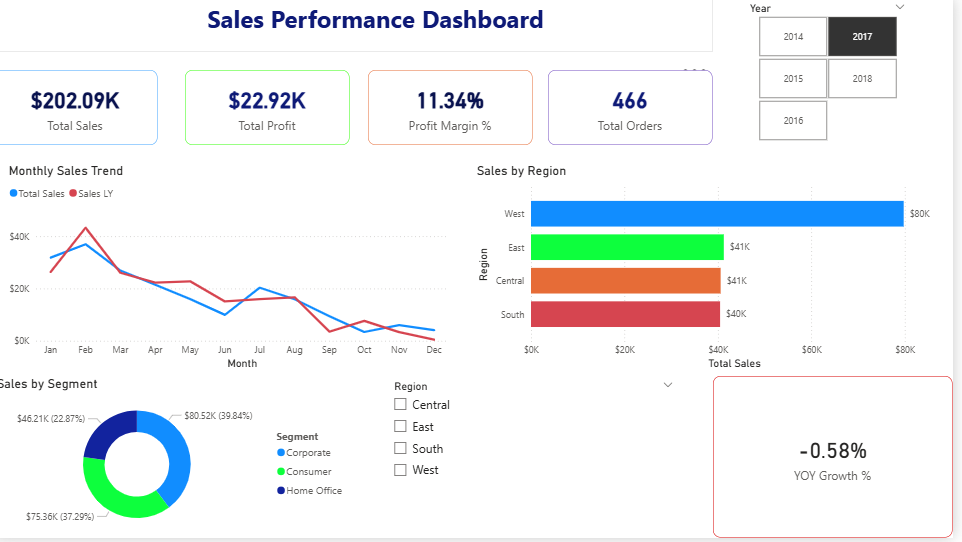

Layout of this report page (visuals, bound fields, positions):
{"tool":"powerbi","page":{"name":"Executive Overview","canvas":[1280,720],"ordinal":0},"visuals":[{"type":"textbox","box":[0,0,960,71.8],"z":0},{"type":"card","fields":{"Values":["_Measures.Total Sales"]},"box":[0,96.4,219.2,100.2],"z":1000},{"type":"card","fields":{"Values":["_Measures.Total Profit"]},"box":[255.1,96.4,219.2,100.2],"z":2000},{"type":"card","fields":{"Values":["_Measures.Profit Margin %"]},"box":[500.8,96.4,219.2,100.2],"z":3000},{"type":"card","fields":{"Values":["_Measures.Total Orders"]},"box":[740.8,96.4,219.2,100.2],"z":4000},{"type":"lineChart","title":"Monthly Sales Trend","fields":{"Y":["_Measures.Total Sales","_Measures.Sales LY"],"Category":["Date Table.Month"]},"box":[15.1,219.2,595.3,279.7],"z":5000},{"type":"slicer","fields":{"Values":["Date Table.Year"]},"box":[995.9,0,232.4,196.5],"z":6000},{"type":"clusteredBarChart","title":"Sales by Region","fields":{"Category":["Sample - Superstore.Region"],"Y":["_Measures.Total Sales"]},"box":[640.6,219.2,638.7,279.7],"z":7000},{"type":"donutChart","title":"Sales by Segment","fields":{"Y":["_Measures.Total Sales"],"Category":["Sample - Superstore.Segment"]},"box":[0,504.6,480,215.4],"z":8000},{"type":"slicer","fields":{"Values":["Sample - Superstore.Region"]},"box":[521.6,504.6,396.9,215.4],"z":9000},{"type":"card","fields":{"Values":["_Measures.YOY Growth %"]},"box":[960,504.6,319.4,215.4],"z":10000}]}

Visuals, with their boxes in screenshot pixels (x1, y1, x2, y2), scaled from the page's 1280x720 canvas onto the 962x542 screenshot:
textbox: x1=0, y1=0, x2=722, y2=54
card - _Measures.Total Sales: x1=0, y1=73, x2=165, y2=148
card - _Measures.Total Profit: x1=192, y1=73, x2=356, y2=148
card - _Measures.Profit Margin %: x1=376, y1=73, x2=541, y2=148
card - _Measures.Total Orders: x1=557, y1=73, x2=722, y2=148
"Monthly Sales Trend" lineChart: x1=11, y1=165, x2=459, y2=376
slicer - Date Table.Year: x1=748, y1=0, x2=923, y2=148
"Sales by Region" clusteredBarChart: x1=481, y1=165, x2=961, y2=376
"Sales by Segment" donutChart: x1=0, y1=380, x2=361, y2=541
slicer - Sample - Superstore.Region: x1=392, y1=380, x2=690, y2=541
card - _Measures.YOY Growth %: x1=722, y1=380, x2=961, y2=541
